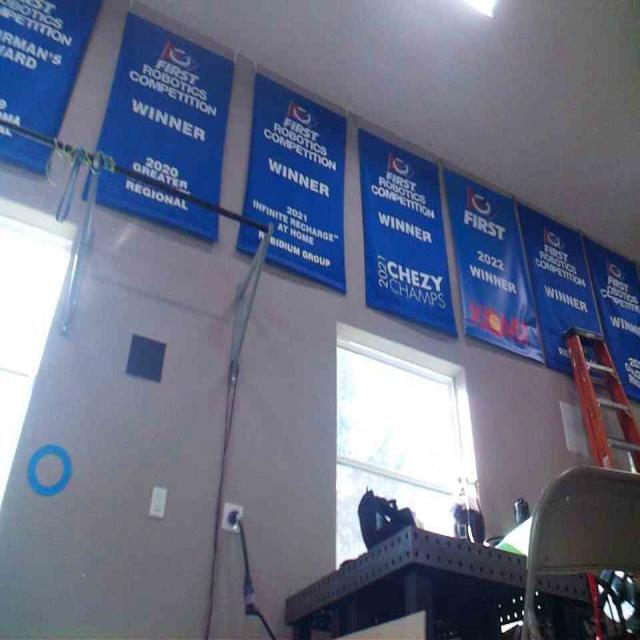ring_blue: (26, 444, 73, 495)
square_black: (124, 332, 167, 382)
